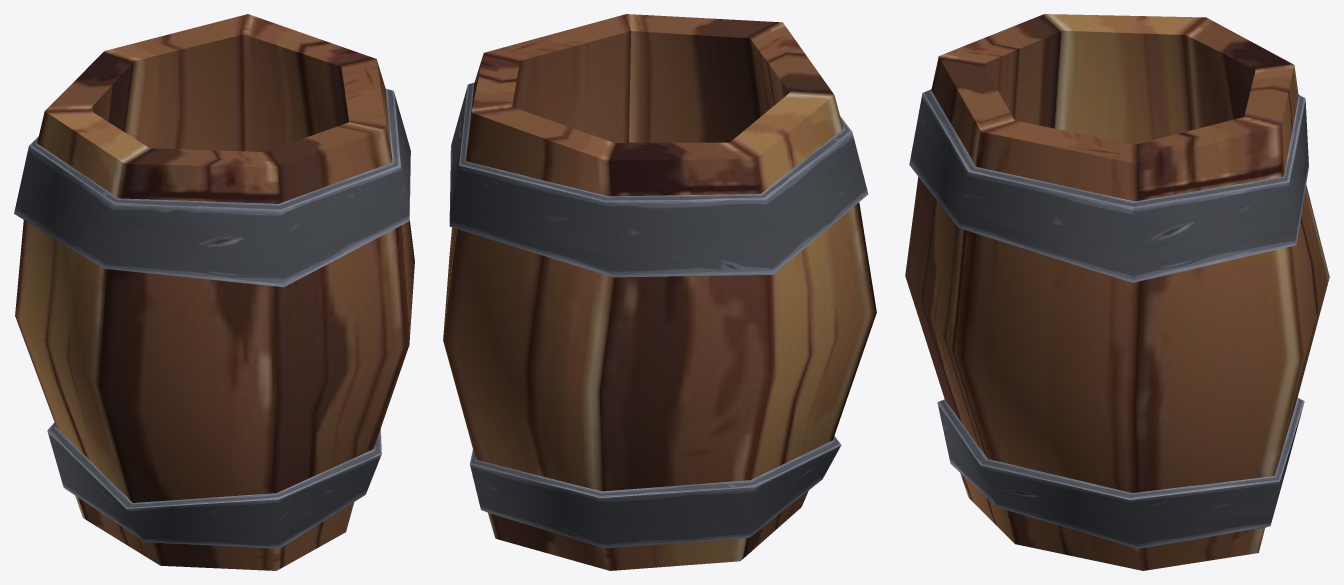
The model's file is SM_PROP_barrel_02.glb.
The picture shows the model from 3 angles, left to right: view 1: azimuth 30°, elevation 25°; view 2: azimuth 150°, elevation 25°; view 3: azimuth 270°, elevation 25°; orthographic projection. The views are drawn at different scales.
Parts seen in each view (by area): view 1: SM_PROP_barrel_02_EXPORT; view 2: SM_PROP_barrel_02_EXPORT; view 3: SM_PROP_barrel_02_EXPORT.
Boxes of the visible parts, left/top/right/bottom form: SM_PROP_barrel_02_EXPORT: left=14, top=14, right=414, bottom=570; SM_PROP_barrel_02_EXPORT: left=443, top=14, right=876, bottom=570; SM_PROP_barrel_02_EXPORT: left=905, top=14, right=1329, bottom=570.
Bounding box in the file's own units: 0.7706 × 0.8439 × 0.7486.
2 materials, 2 textured.
